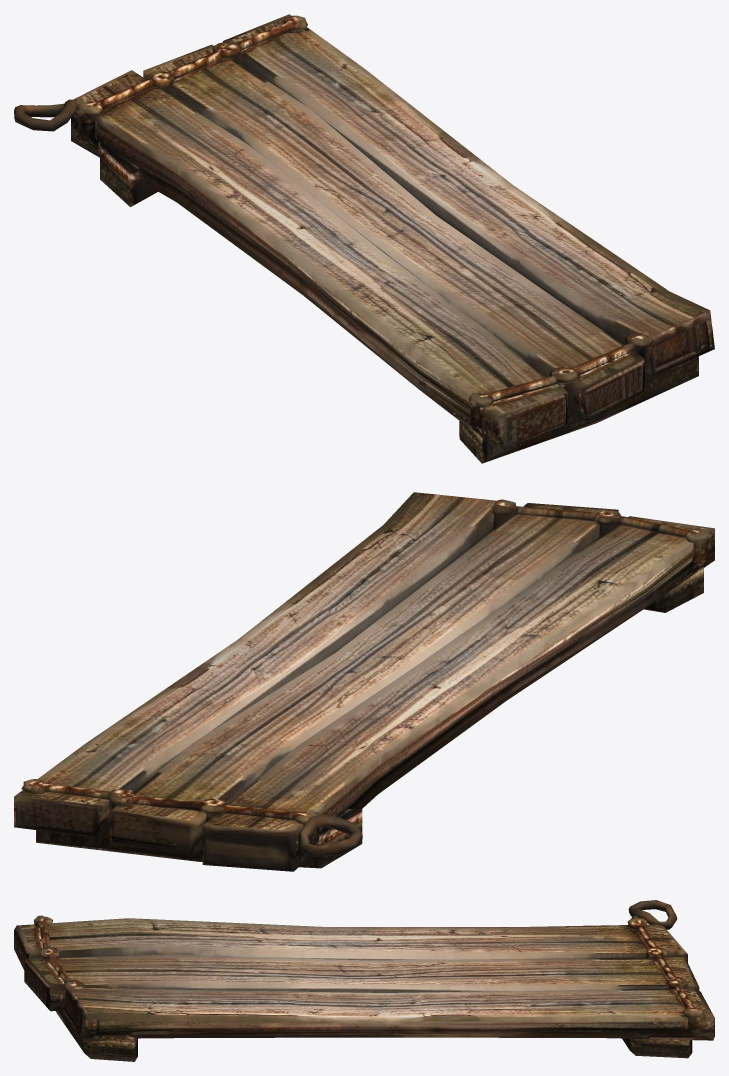
File: act1-a25-2-plank-crossing.glb
3 renders of one model, top to bottom at view 1: azimuth 30°, elevation 25°; view 2: azimuth 150°, elevation 25°; view 3: azimuth 270°, elevation 25°, orthographic. The views are drawn at different scales.
Visible parts, largest first — view 1: act1-a25-2-plank-crossing; view 2: act1-a25-2-plank-crossing; view 3: act1-a25-2-plank-crossing.
Part boxes in pixels (box(x1,y1,x2,y2)): act1-a25-2-plank-crossing: box(14, 14, 714, 463); act1-a25-2-plank-crossing: box(14, 492, 714, 871); act1-a25-2-plank-crossing: box(14, 900, 714, 1061).
Size of the model in its own units: 0.9107 by 0.1885 by 2.3.
Materials: 1 (1 with a texture image).
